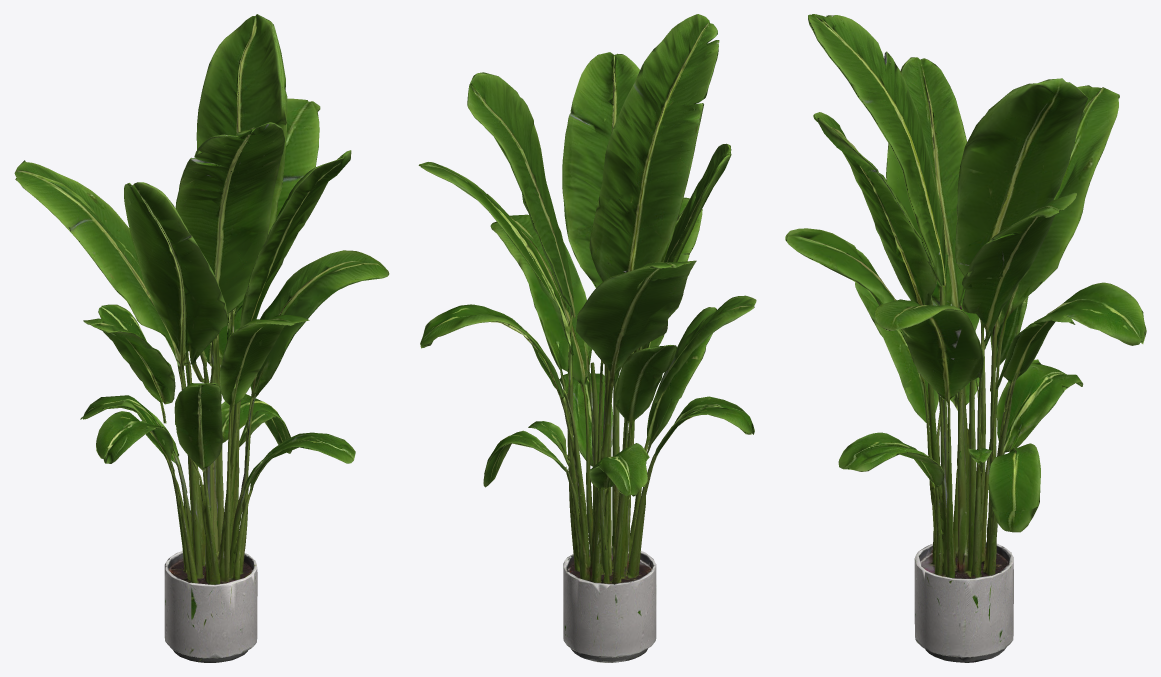
File: emerald-fan-plant.glb
3 renders of one model, left to right at view 1: azimuth 30°, elevation 25°; view 2: azimuth 150°, elevation 25°; view 3: azimuth 270°, elevation 25°, orthographic. The views are drawn at different scales.
Size of the model in its own units: 0.9809 by 1.9 by 1.
1 material, 1 textured.
